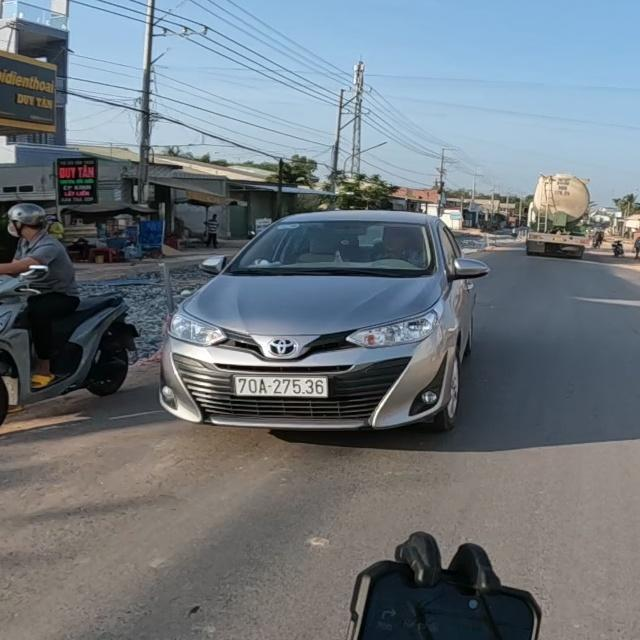license-plate: (241, 378, 324, 396)
